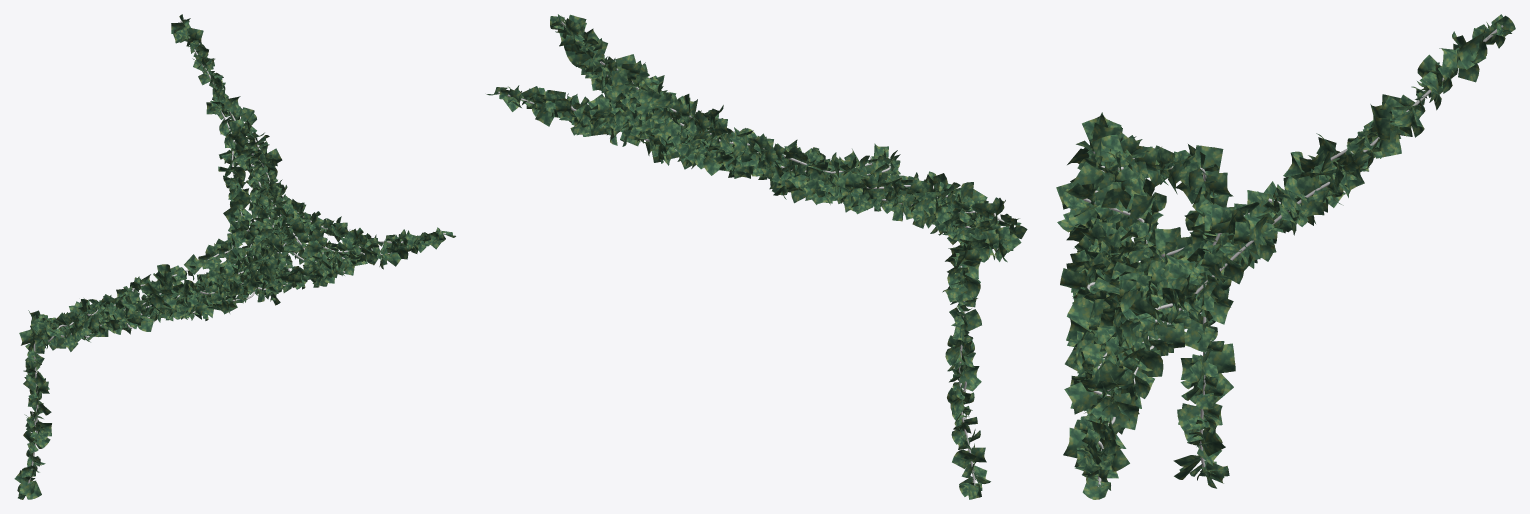
The model's file is SM_Ivy_11.fbx.
3 views of the same model, side by side, from view 1: azimuth 30°, elevation 25°; view 2: azimuth 150°, elevation 25°; view 3: azimuth 270°, elevation 25° (orthographic). The views are drawn at different scales.
Parts seen in each view (by area): view 1: SM_Ivy_11_LOD0; view 2: SM_Ivy_11_LOD0; view 3: SM_Ivy_11_LOD0.
Boxes of the visible parts, box(x1,y1,x2,y2) form: SM_Ivy_11_LOD0: box(14, 14, 455, 499); SM_Ivy_11_LOD0: box(486, 14, 1027, 499); SM_Ivy_11_LOD0: box(1056, 14, 1515, 499).
Bounding box in the file's own units: 542 × 281 × 464.
2 materials, 1 textured.
